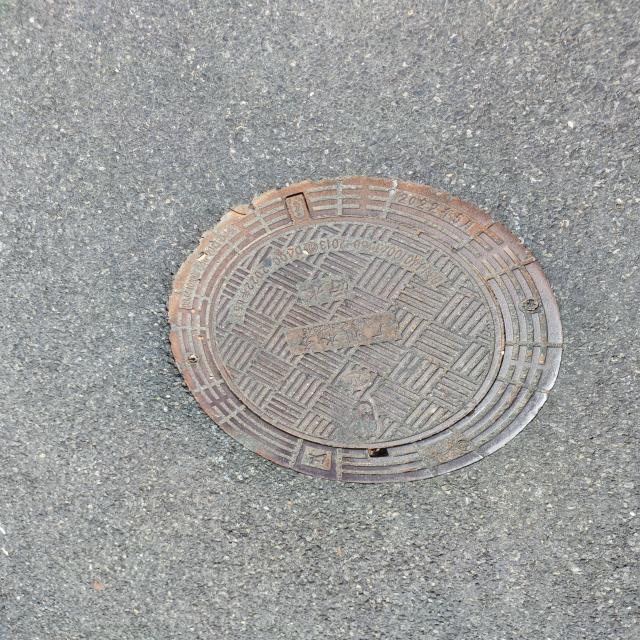Good: (157, 171, 571, 492)
